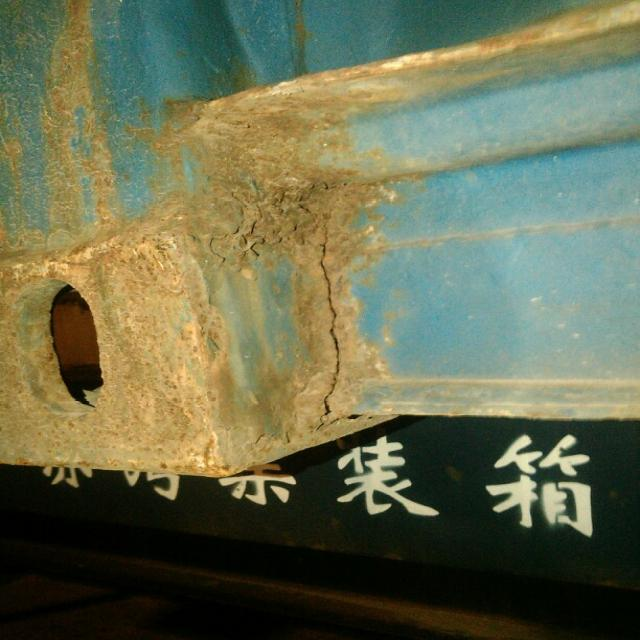rust: (1, 225, 219, 473), (268, 191, 366, 434)
